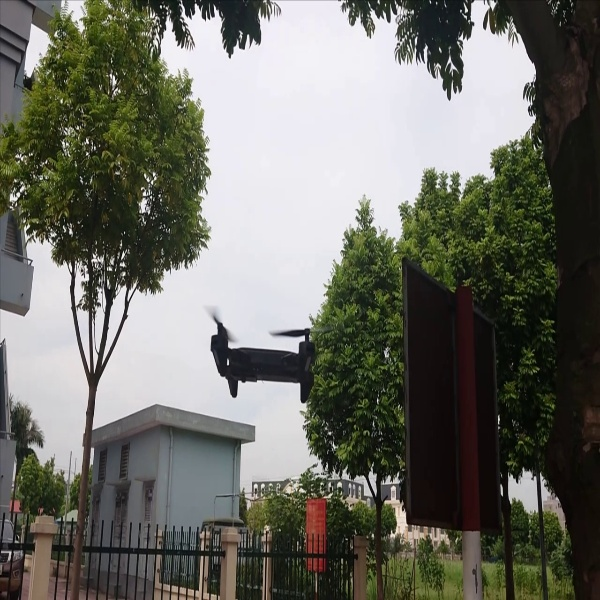drone: (192, 304, 338, 408)
